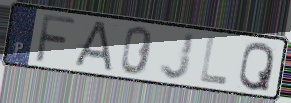0: (119, 24, 155, 76)
A: (69, 20, 115, 73)
F: (33, 12, 79, 66)
J: (158, 31, 197, 82)
L: (198, 35, 230, 87)
Q: (237, 41, 276, 93)
